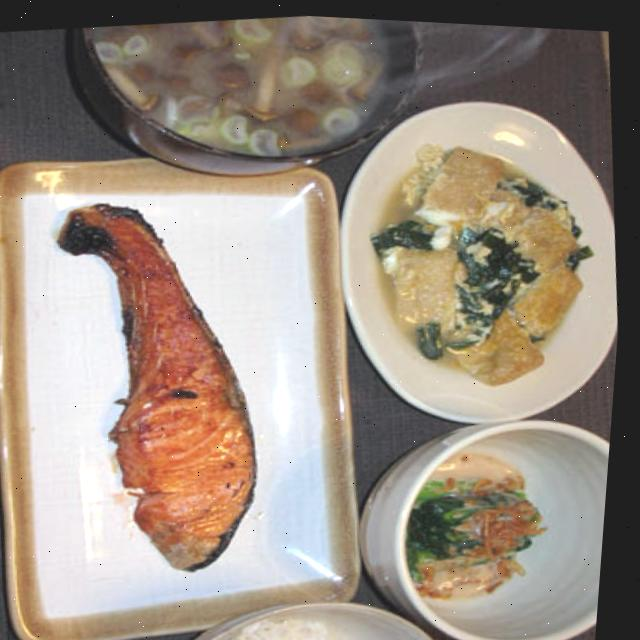熟制海鲜: (14, 162, 335, 612)
